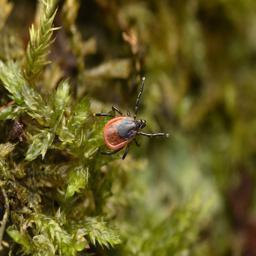Ixodes scapularis: (94, 79, 165, 159)
